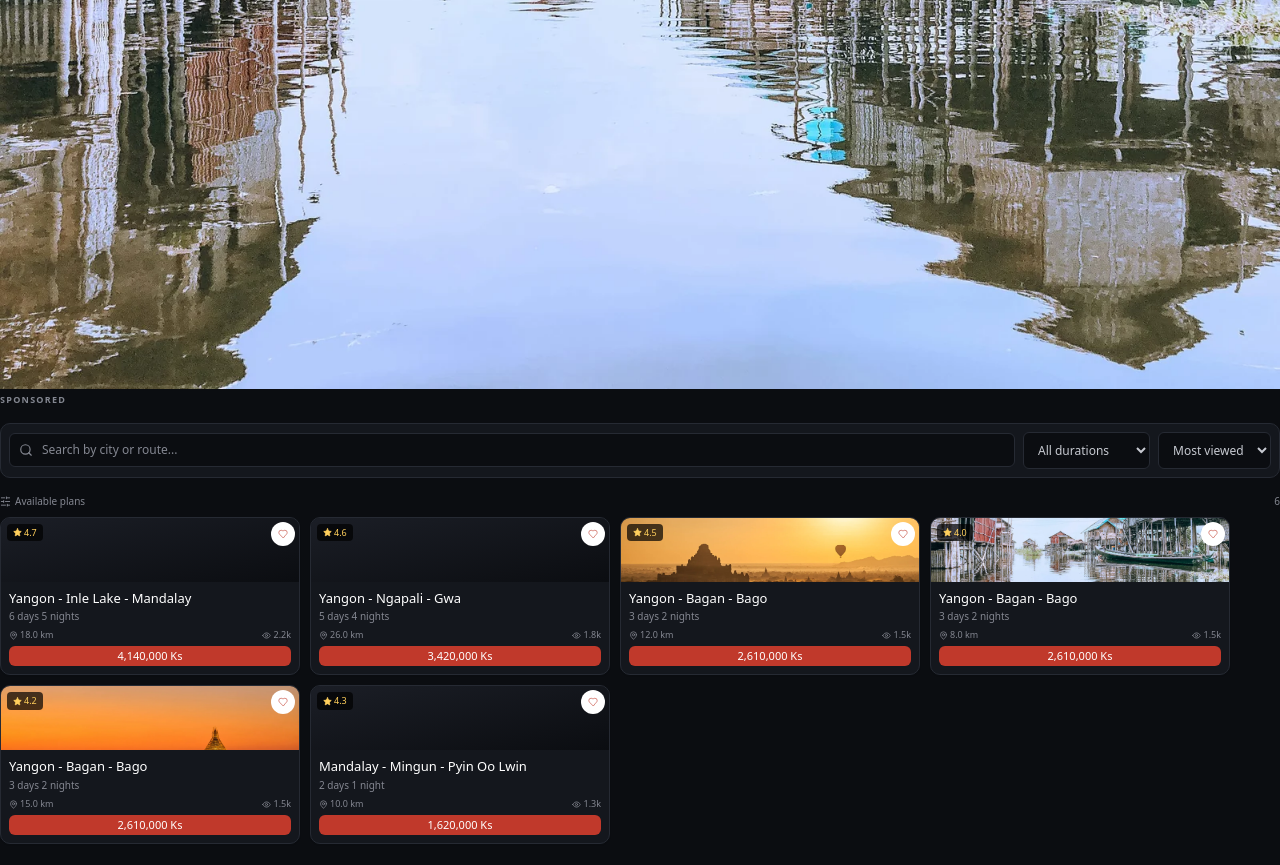
Test: every list reaches an empty state › Travel Plans says no plans match
(page scrolled)
Type "zzzznomatchzzzz" into the search field named "Search travel plans" at (512, 450), box [9,433,1015,467]
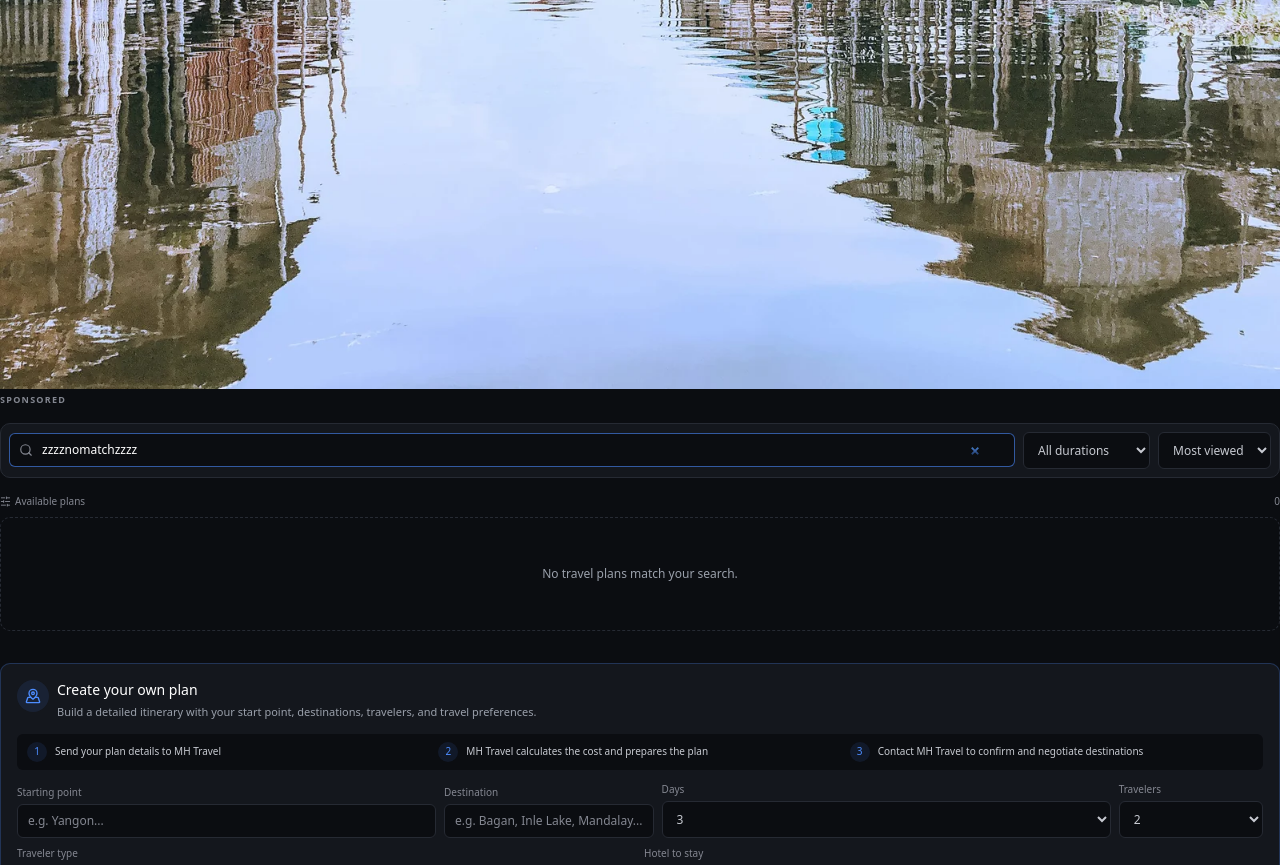
Expected: the text "No travel plans match your search." is shown, [0,516,1279,630]
